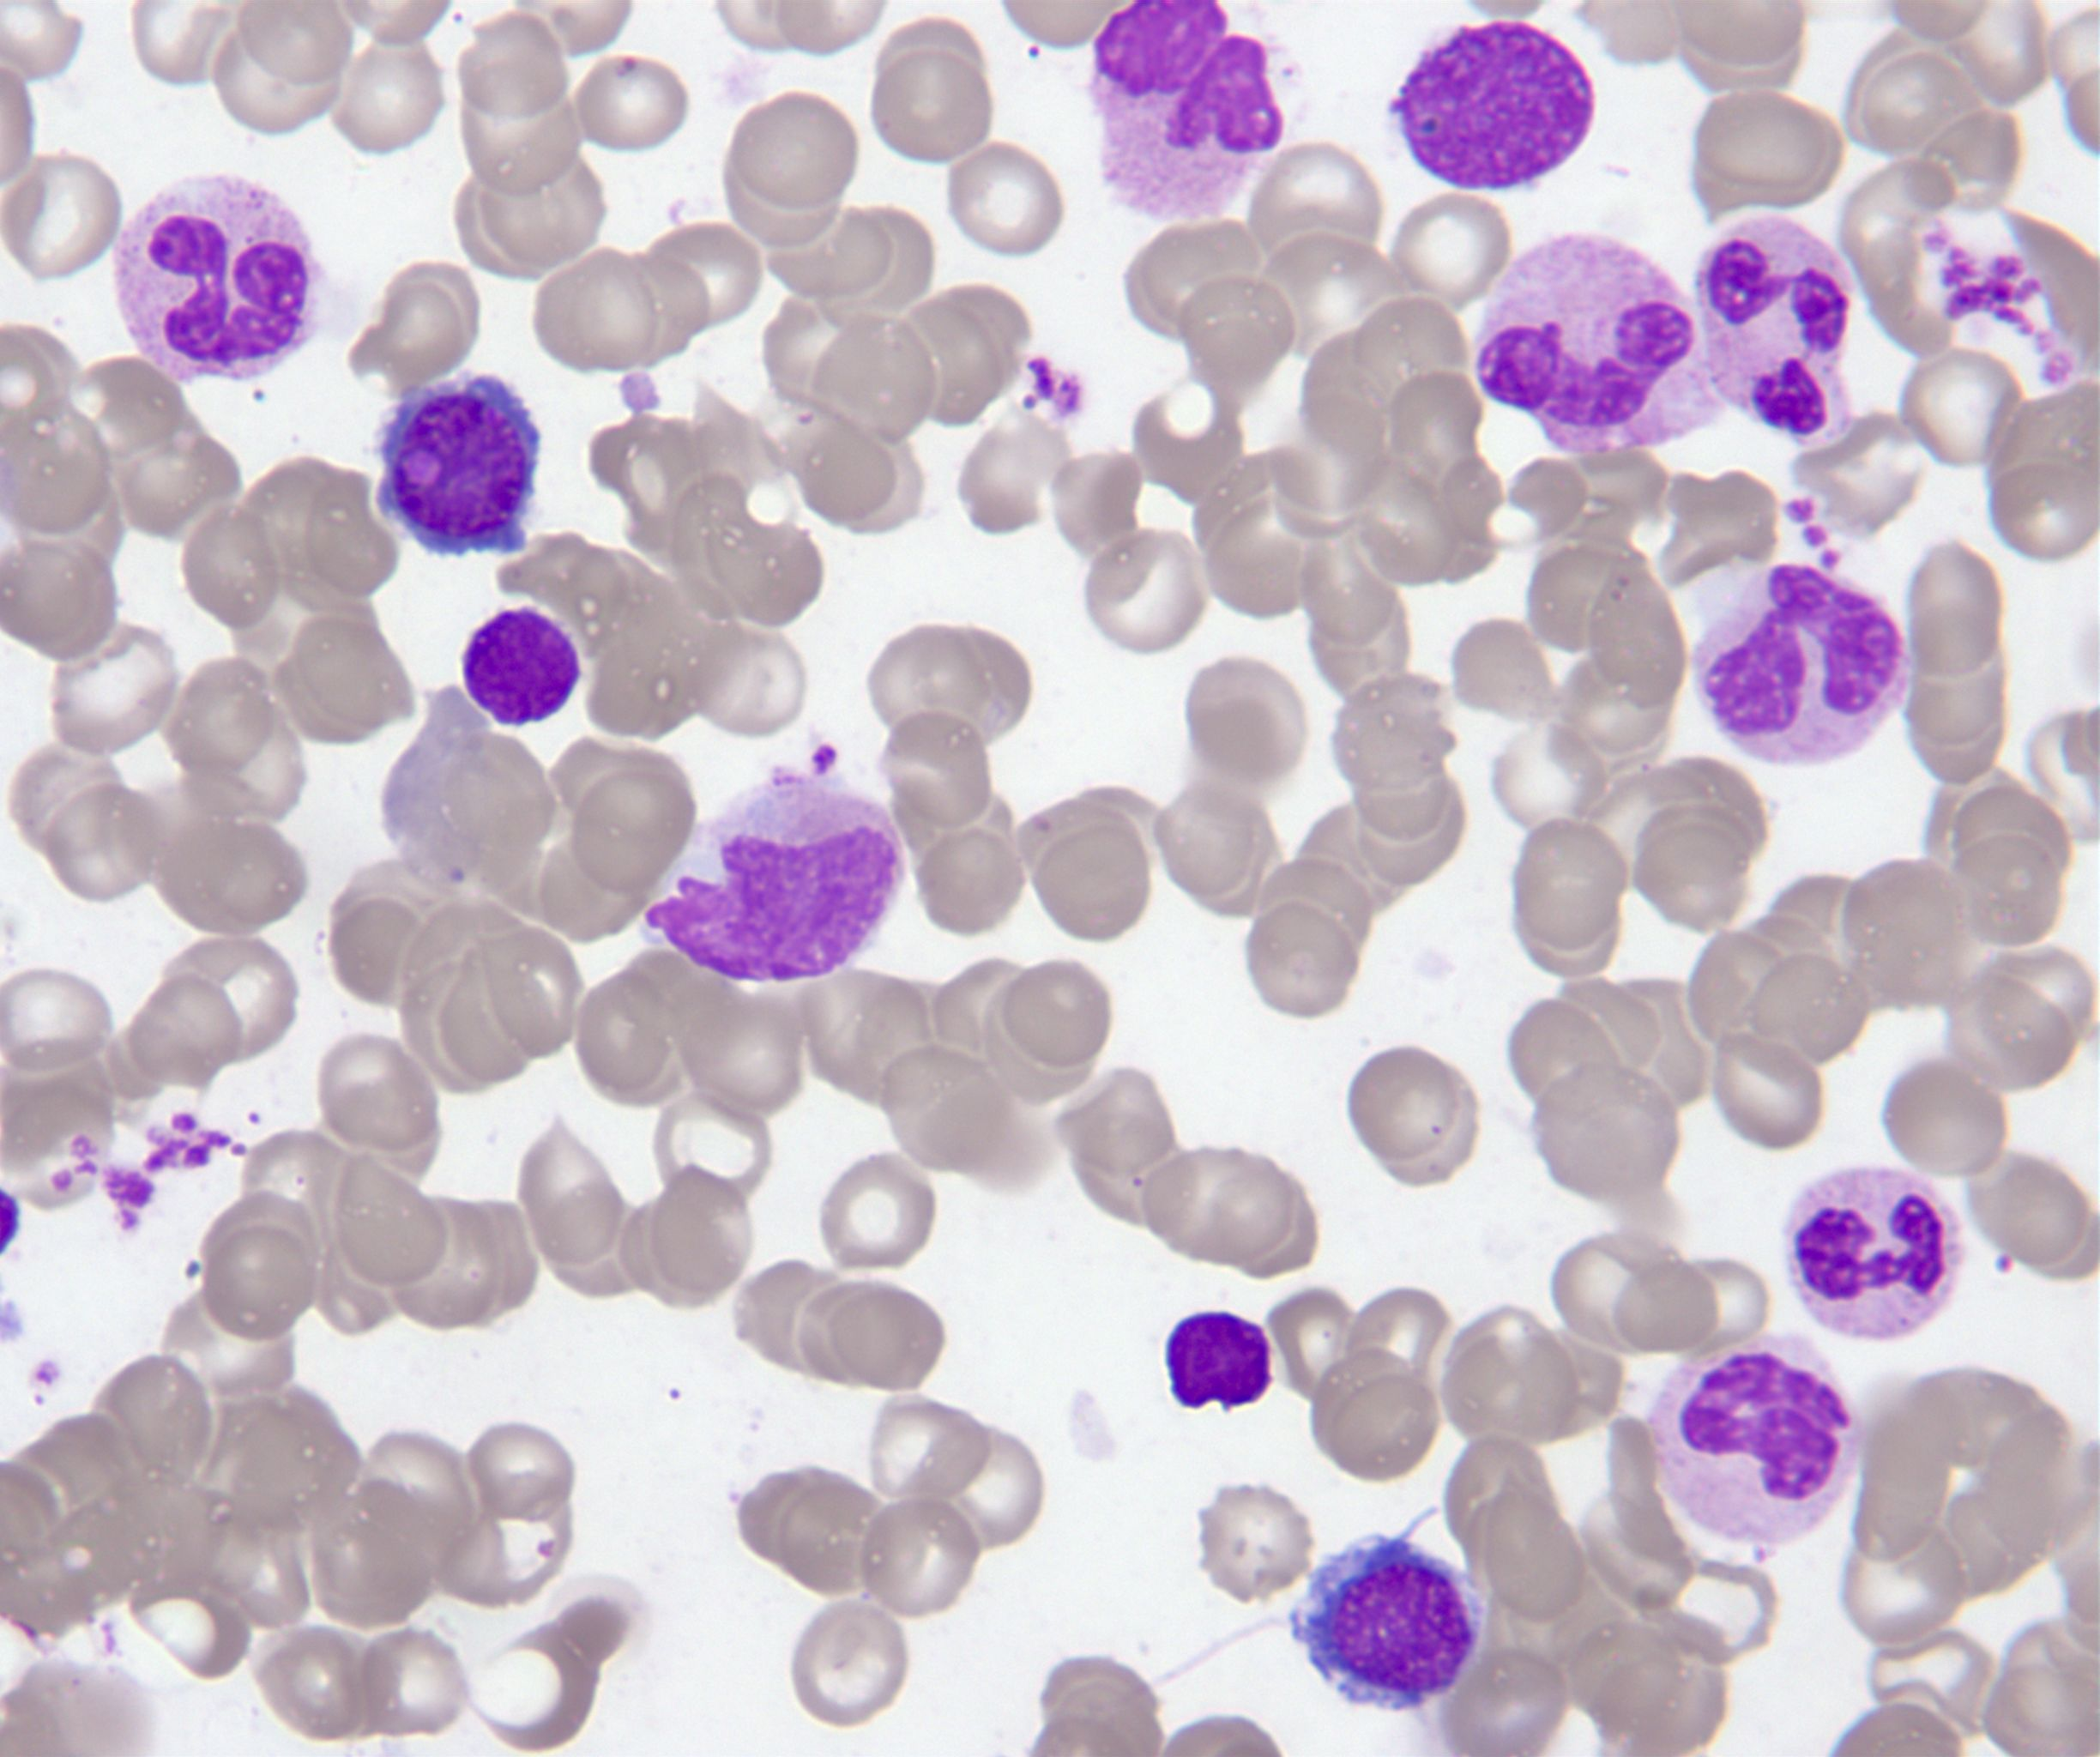21: (365, 359, 546, 564)
22: (1287, 1528, 1493, 1720)
3: (633, 735, 919, 991)
32: (452, 598, 590, 729), (1158, 1305, 1280, 1420)
5: (1463, 225, 1735, 461), (1641, 1326, 1868, 1567), (106, 167, 338, 391), (1777, 1160, 1976, 1350)
6: (1680, 551, 1922, 776), (1688, 211, 1877, 462)
x: (1083, 0, 1305, 232), (1387, 17, 1603, 197)
